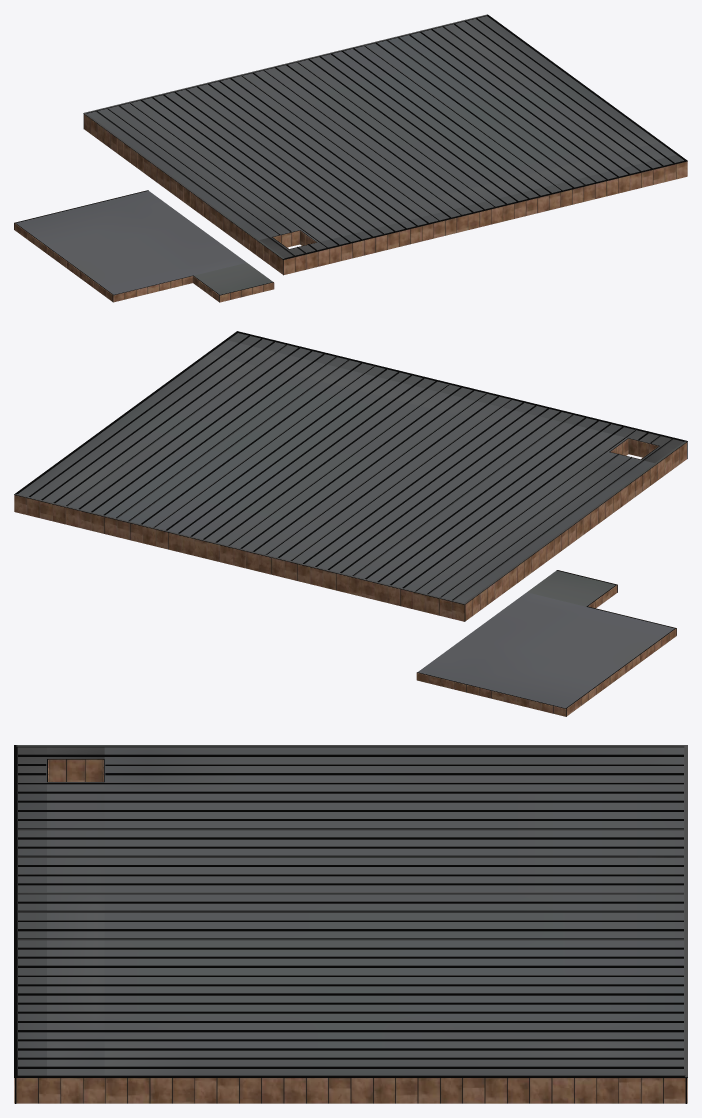
File: suite_roof.glb
3 views of the same model, one above another, from view 1: azimuth 30°, elevation 25°; view 2: azimuth 150°, elevation 25°; view 3: azimuth 270°, elevation 25° (orthographic). The views are drawn at different scales.
Visible parts, largest first — view 1: suite_roof; view 2: suite_roof; view 3: suite_roof.
Boxes of the visible parts, box(x1,y1,x2,y2) form: suite_roof: box(14, 14, 687, 302); suite_roof: box(14, 331, 687, 716); suite_roof: box(14, 745, 687, 1103).
Bounding box in the file's own units: 26.17 × 4.61 × 18.73.
1 material, 1 textured.
